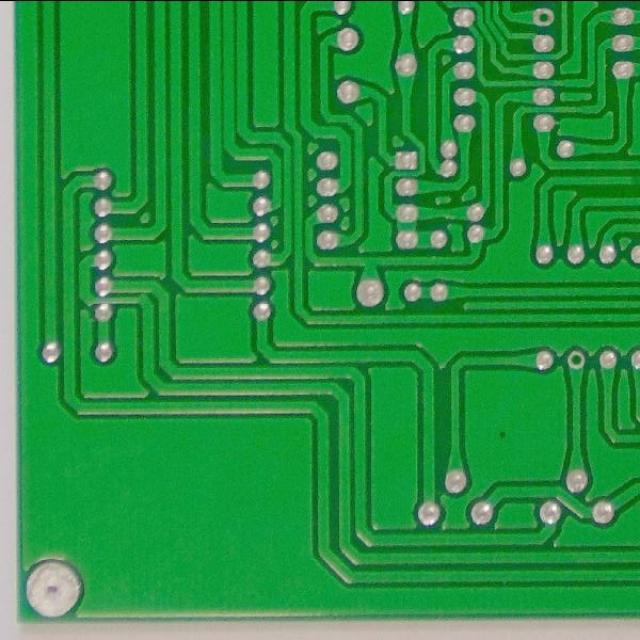Missing_Hole: (531, 5, 556, 29), (565, 349, 589, 371)
